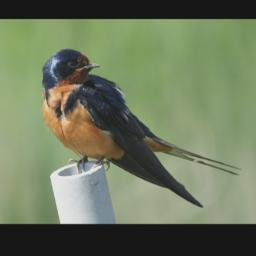Swallow: (40, 46, 241, 206)
